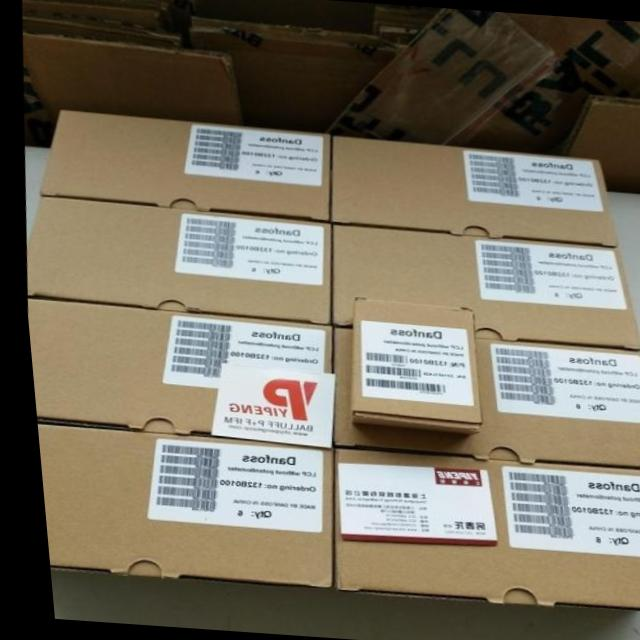box: (322, 447, 640, 614), (30, 423, 324, 593), (324, 327, 640, 470), (22, 297, 326, 435), (326, 224, 636, 351), (22, 196, 327, 325), (34, 109, 327, 222), (327, 134, 616, 246), (340, 294, 473, 436)
